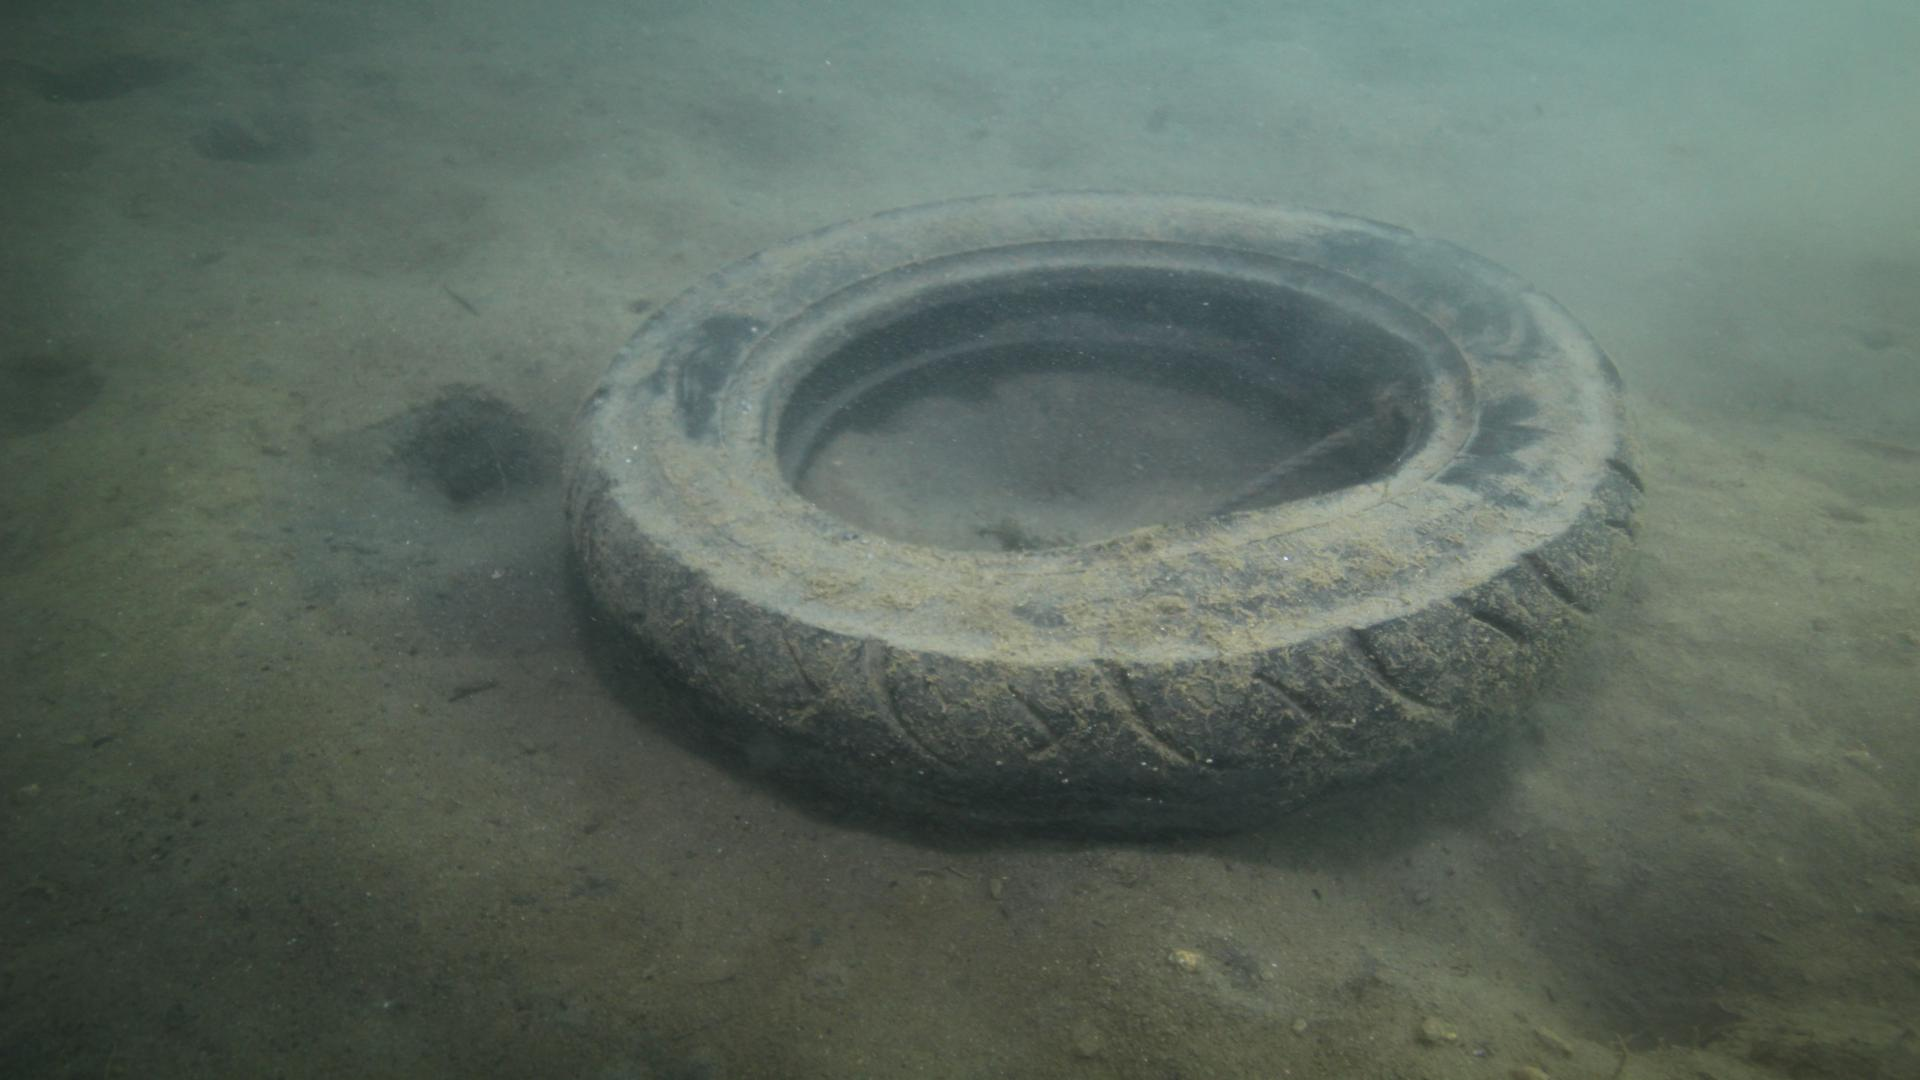rope: (1187, 414, 1373, 520)
tire: (555, 185, 1650, 841)
